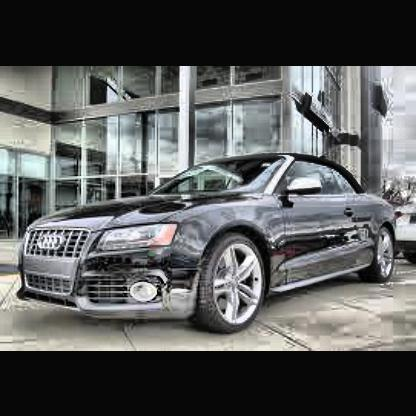Audi S5 Convertible 2012: (19, 155, 399, 339)
